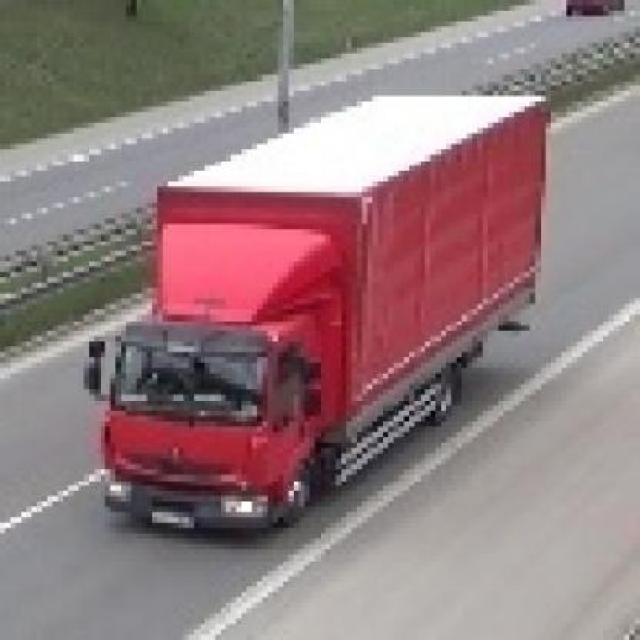truck: (80, 81, 547, 535)
